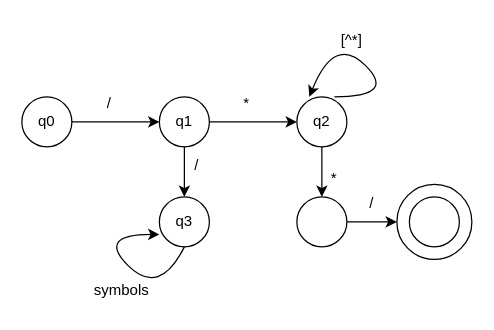
Some shapes in this 494 by 330 pixel diagram are drawn without their labels. The shapes that lost their labels are listed below. From the top down, each one's box as (x1, y1, x2, y2) in pixels, then its label:
(296, 196, 347, 247): q4
(408, 196, 459, 247): q5
